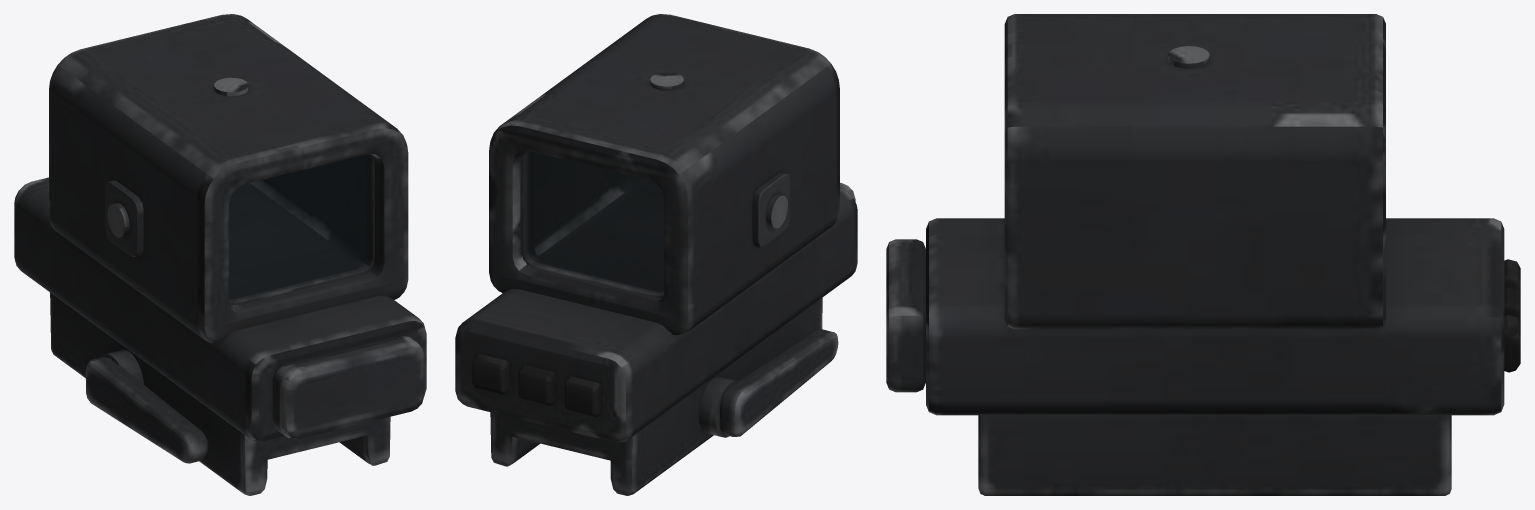
File: scope_holo.glb
3 renders of one model, left to right at view 1: azimuth 30°, elevation 25°; view 2: azimuth 150°, elevation 25°; view 3: azimuth 270°, elevation 25°, orthographic. The views are drawn at different scales.
Visible parts, largest first — view 1: body, lens_front; view 2: body, lens; view 3: body.
Part boxes in pixels (x1,y1,x2,y2): body: (14,14,426,495); lens_front: (229,154,368,299); body: (455,14,857,495); lens: (528,151,664,292); body: (886,14,1520,495).
Size of the model in its own units: 0.0464 by 0.0673 by 0.0965.
Materials: 2 (1 with a texture image).
